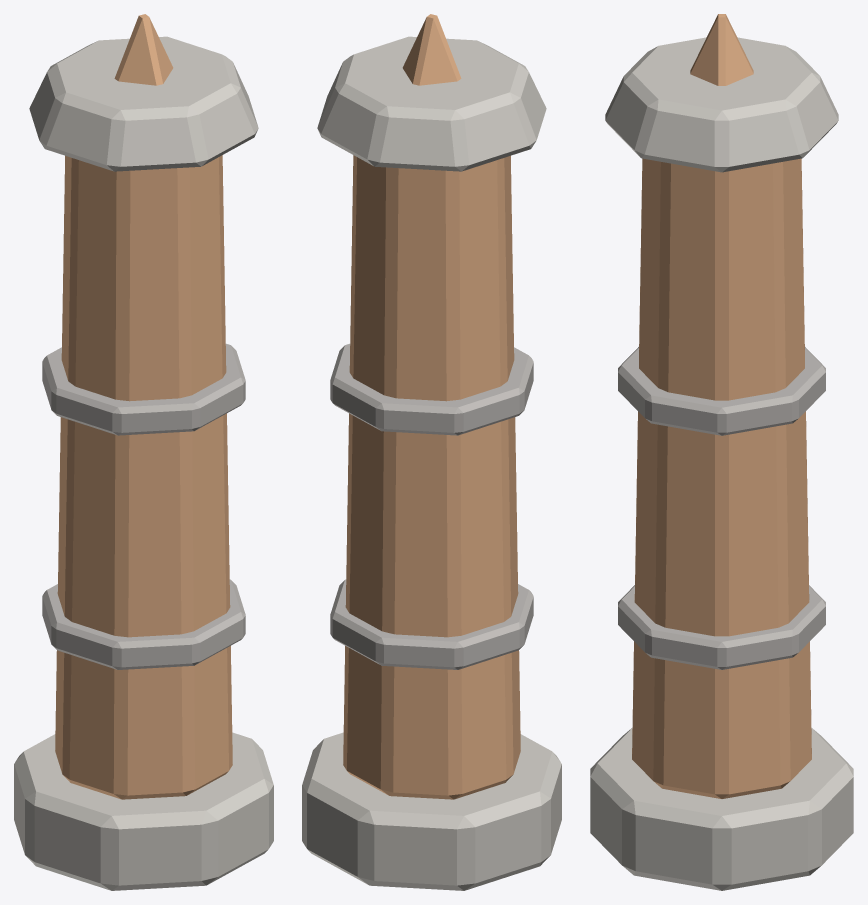
Rendered from pilar_cobre.fbx.
The picture shows the model from 3 angles, left to right: view 1: azimuth 30°, elevation 25°; view 2: azimuth 150°, elevation 25°; view 3: azimuth 270°, elevation 25°; orthographic projection.
Visible parts, largest first — view 1: Pilar~Coluna@copper, Pilar~Base@stone, Pilar~Capitel@stone, Pilar~Anel 1@stonedark, Pilar~Anel 0@stonedark, Pilar~Cristal@copper; view 2: Pilar~Coluna@copper, Pilar~Base@stone, Pilar~Capitel@stone, Pilar~Anel 1@stonedark, Pilar~Anel 0@stonedark, Pilar~Cristal@copper; view 3: Pilar~Coluna@copper, Pilar~Base@stone, Pilar~Capitel@stone, Pilar~Anel 1@stonedark, Pilar~Anel 0@stonedark, Pilar~Cristal@copper.
Part boxes in pixels (x1=…): Pilar~Coluna@copper: x1=55, y1=155, x2=232, y2=799; Pilar~Base@stone: x1=14, y1=732, x2=273, y2=890; Pilar~Capitel@stone: x1=29, y1=36, x2=258, y2=171; Pilar~Anel 1@stonedark: x1=42, y1=343, x2=245, y2=435; Pilar~Anel 0@stonedark: x1=42, y1=579, x2=245, y2=669; Pilar~Cristal@copper: x1=114, y1=14, x2=173, y2=85; Pilar~Coluna@copper: x1=343, y1=155, x2=520, y2=799; Pilar~Base@stone: x1=302, y1=732, x2=561, y2=890; Pilar~Capitel@stone: x1=317, y1=36, x2=546, y2=171; Pilar~Anel 1@stonedark: x1=330, y1=343, x2=533, y2=435; Pilar~Anel 0@stonedark: x1=330, y1=579, x2=533, y2=669; Pilar~Cristal@copper: x1=402, y1=14, x2=461, y2=85; Pilar~Coluna@copper: x1=632, y1=158, x2=811, y2=798; Pilar~Base@stone: x1=590, y1=727, x2=853, y2=890; Pilar~Capitel@stone: x1=605, y1=37, x2=838, y2=172; Pilar~Anel 1@stonedark: x1=618, y1=347, x2=825, y2=435; Pilar~Anel 0@stonedark: x1=618, y1=585, x2=825, y2=669; Pilar~Cristal@copper: x1=690, y1=14, x2=753, y2=85.
Size of the model in its own units: 1.02 by 3.51 by 1.02.
